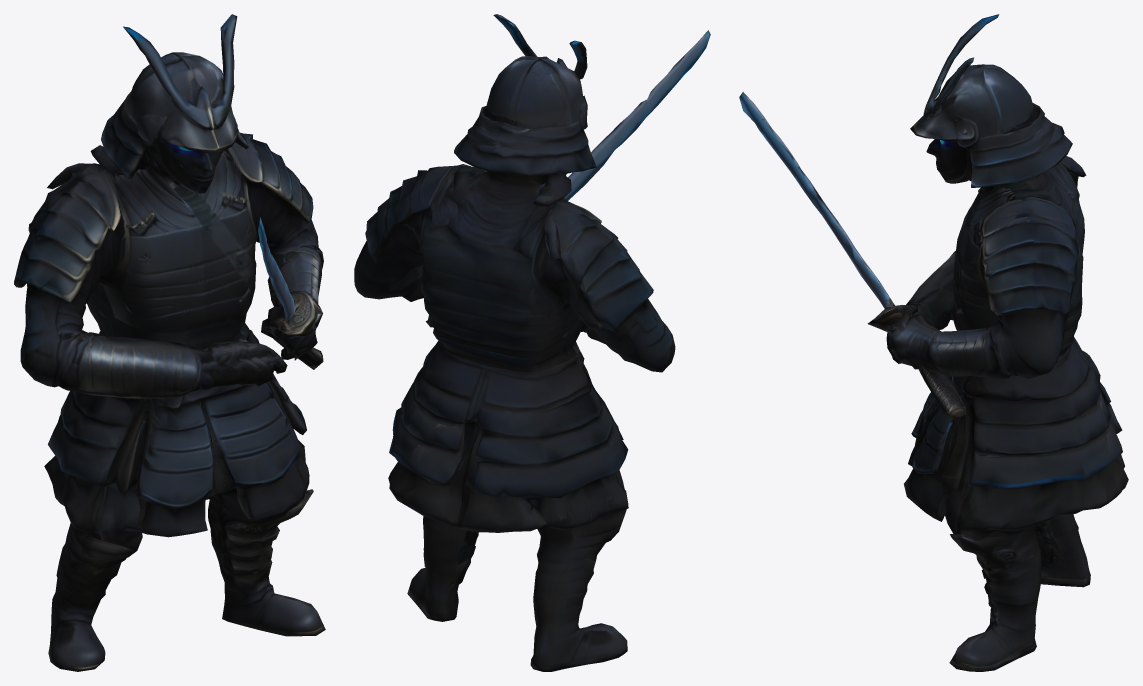
Rendered from Silent_Sentinel_0421125104_texture.glb.
The picture shows the model from 3 angles, left to right: view 1: azimuth 30°, elevation 25°; view 2: azimuth 150°, elevation 25°; view 3: azimuth 270°, elevation 25°; orthographic projection. The views are drawn at different scales.
Size of the model in its own units: 1.04 by 2 by 1.23.
Materials: 1 (1 with a texture image).
